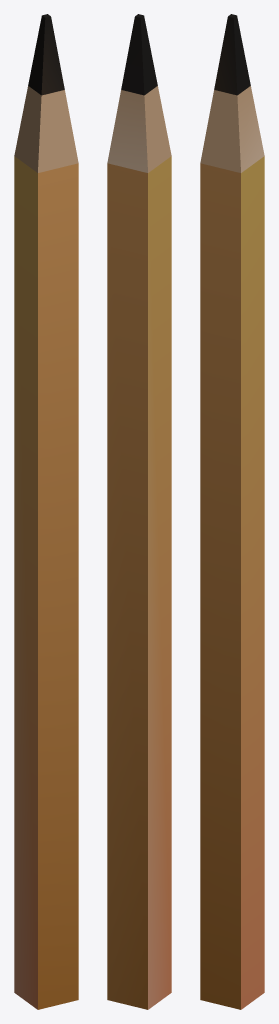
File: pencil-yellow.fbx
3 views of the same model, side by side, from view 1: azimuth 30°, elevation 25°; view 2: azimuth 150°, elevation 25°; view 3: azimuth 330°, elevation 25° (orthographic).
Visible parts, largest first — view 1: pencil-yellow; view 2: pencil-yellow; view 3: pencil-yellow.
Boxes of the visible parts, x1,y1,x2,y2 form: pencil-yellow: (14, 14, 78, 1009); pencil-yellow: (107, 14, 171, 1009); pencil-yellow: (200, 14, 264, 1009).
Size of the model in its own units: 0.00915 by 0.2102 by 0.00915.
